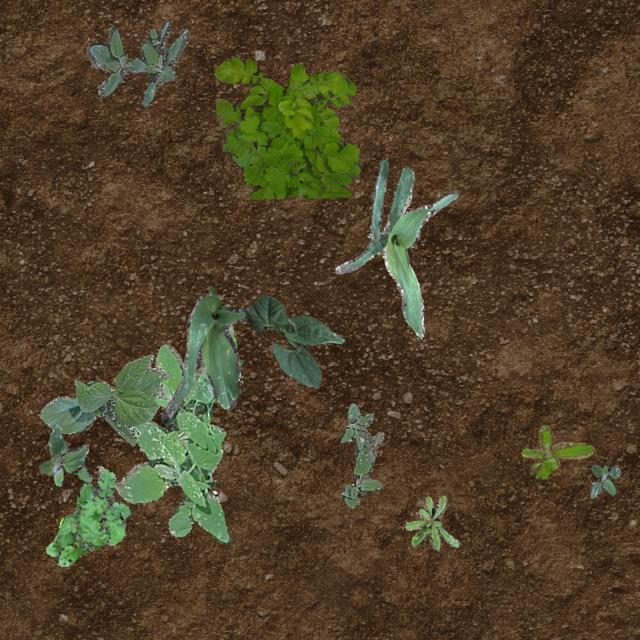crop: (334, 158, 456, 338), (160, 284, 247, 428), (39, 354, 168, 444), (244, 294, 344, 388)
weed: (113, 323, 240, 542), (214, 55, 362, 198), (44, 464, 130, 566), (84, 20, 188, 104), (340, 402, 382, 507), (520, 424, 594, 478), (38, 422, 90, 486), (404, 494, 458, 550), (590, 464, 620, 496)
